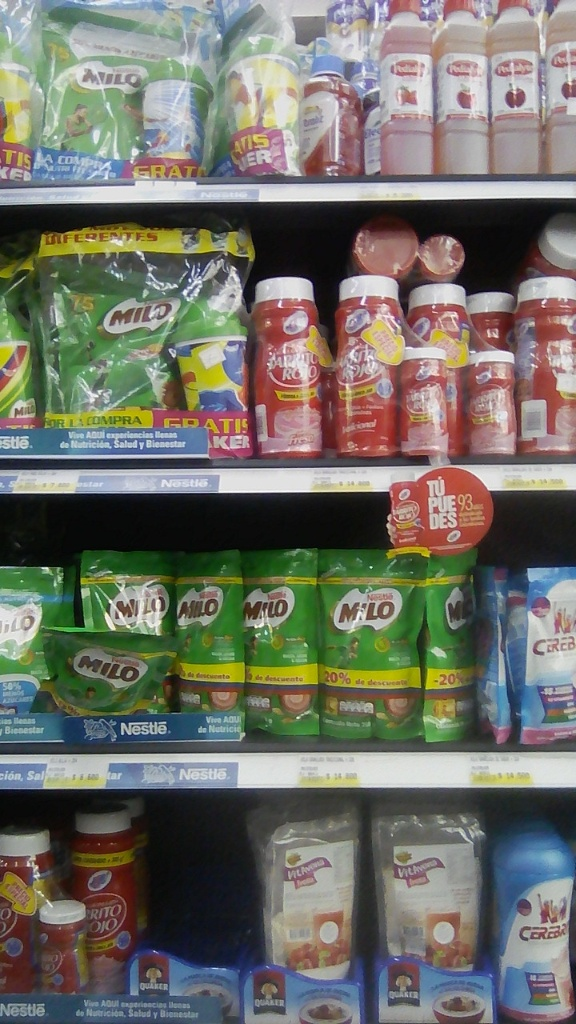COL0170203DYP50000: (35, 254, 181, 411)
COL0170205DYP50000: (37, 6, 144, 157)
